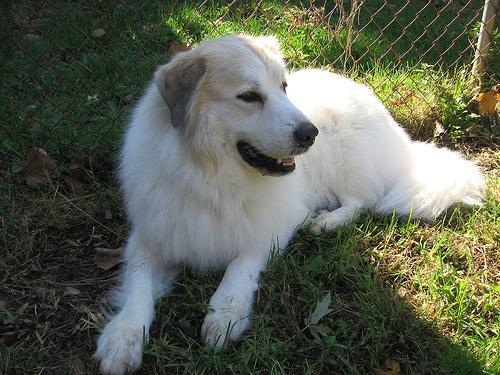Great_Pyrenees: (95, 33, 486, 373)
